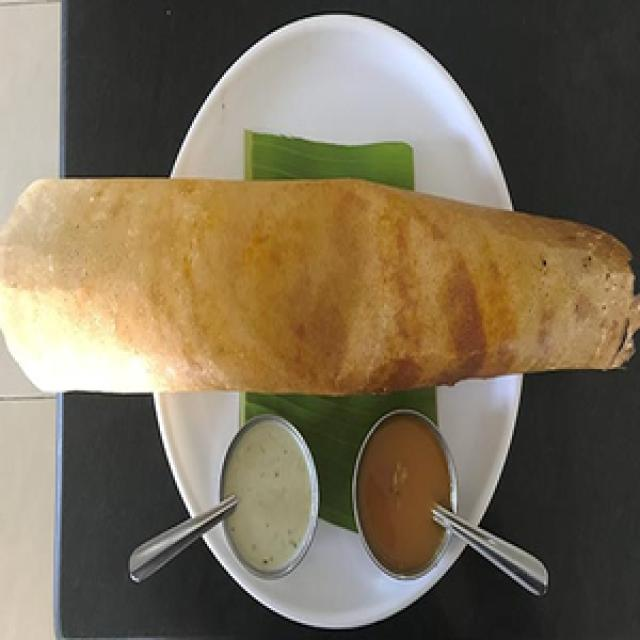dosa: (2, 150, 640, 432)
